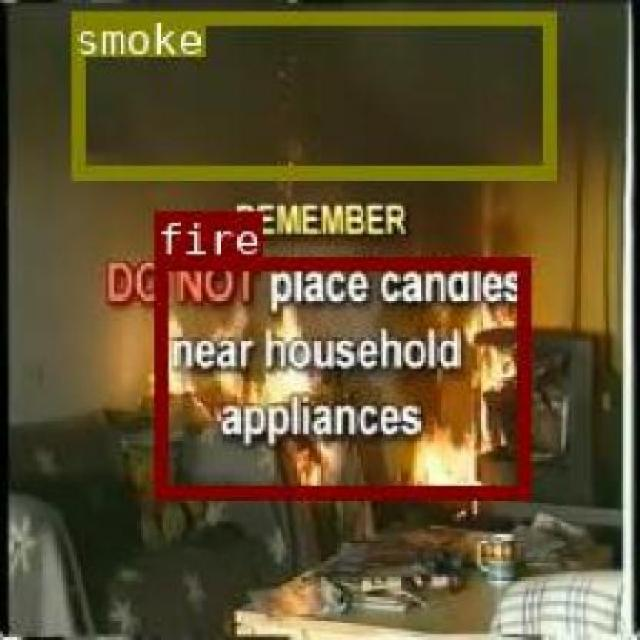Smoke: (68, 10, 554, 175)
